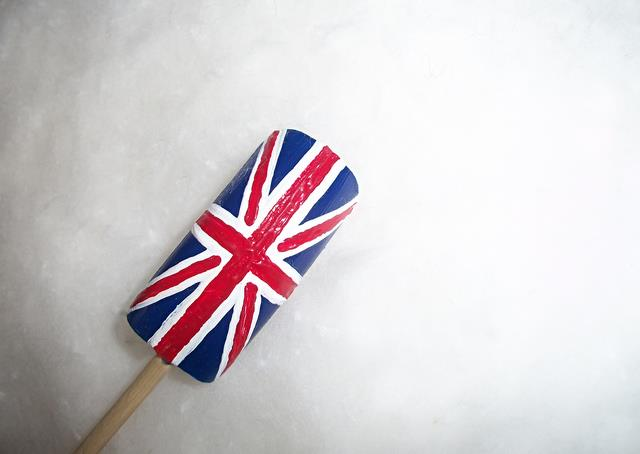UK_flag: (126, 129, 359, 381)
